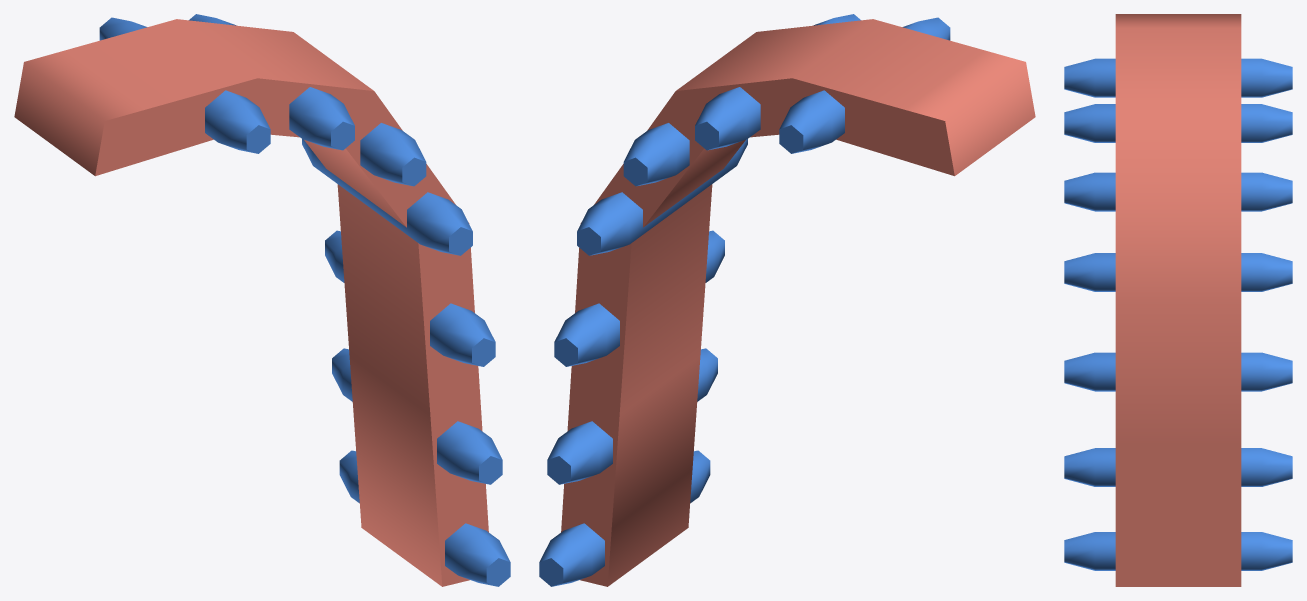
The model's file is ammo.fbx.
The picture shows the model from 3 angles, left to right: view 1: azimuth 30°, elevation 25°; view 2: azimuth 150°, elevation 25°; view 3: azimuth 270°, elevation 25°; orthographic projection. The views are drawn at different scales.
Parts seen in each view (by area): view 1: ammo; view 2: ammo; view 3: ammo.
Part boxes in pixels (left/top/right/bottom): ammo: left=14, top=14, right=510, bottom=586; ammo: left=539, top=14, right=1035, bottom=586; ammo: left=1064, top=14, right=1292, bottom=586.
Size of the model in its own units: 45.38 by 60.58 by 29.15.
